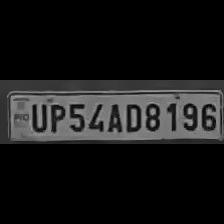1: (161, 100, 179, 132)
4: (86, 100, 104, 132)
5: (65, 100, 85, 132)
6: (196, 100, 218, 132)
8: (142, 100, 162, 132)
9: (179, 99, 199, 131)
A: (104, 100, 122, 134)
D: (122, 100, 142, 132)
P: (46, 100, 64, 134)
U: (26, 100, 48, 132)
